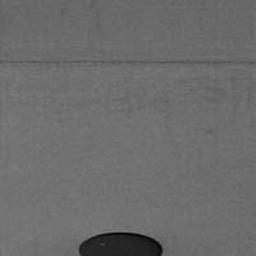Punching: (78, 232, 164, 256)
